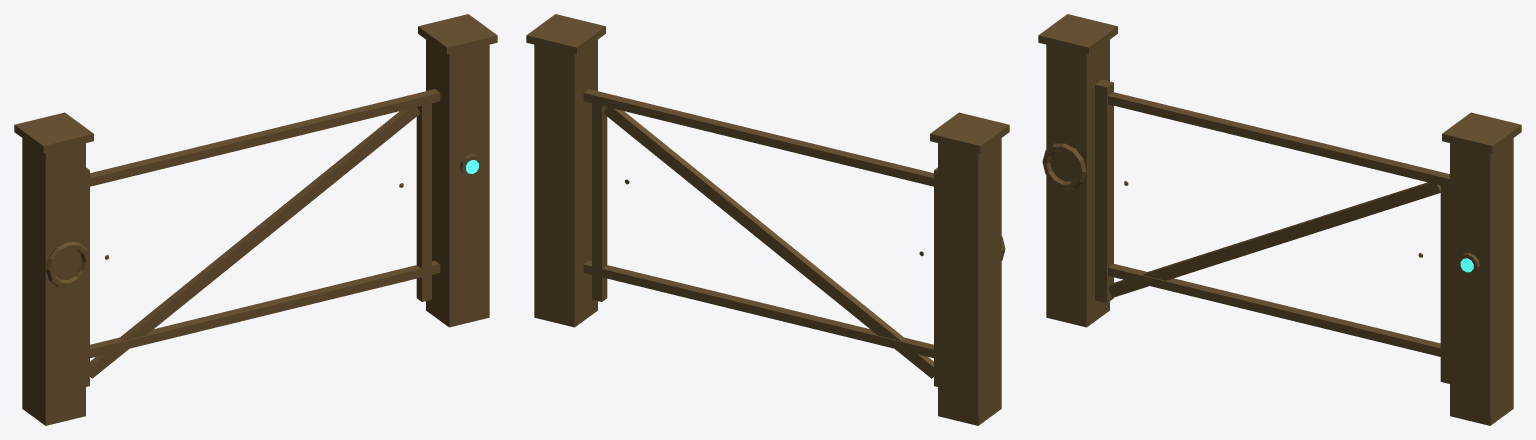
The model's file is SM_Fence_DvergrBrass_08_Gate.glb.
3 renders of one model, left to right at view 1: azimuth 30°, elevation 25°; view 2: azimuth 150°, elevation 25°; view 3: azimuth 330°, elevation 25°, orthographic.
Parts seen in each view (by area): view 1: SM_Fence_DvergrBrass_08_Gate_PostHinge, SM_Fence_DvergrBrass_08_Gate_PostLatch, SM_Fence_DvergrBrass_08_Gate_LeafBrace, SM_Fence_DvergrBrass_08_Gate_LeafRailTop, SM_Fence_DvergrBrass_08_Gate_LeafRailBot, SM_Fence_DvergrBrass_08_Gate_LeafStileFar, SM_Fence_DvergrBrass_08_Gate_PostHinge_Cap, SM_Fence_DvergrBrass_08_Gate_PostLatch_Cap, SM_Fence_DvergrBrass_08_Gate_Gear, SM_Fence_DvergrBrass_08_Gate_Leaf; view 2: SM_Fence_DvergrBrass_08_Gate_PostHinge, SM_Fence_DvergrBrass_08_Gate_PostLatch, SM_Fence_DvergrBrass_08_Gate_LeafBrace, SM_Fence_DvergrBrass_08_Gate_LeafRailTop, SM_Fence_DvergrBrass_08_Gate_LeafRailBot, SM_Fence_DvergrBrass_08_Gate_LeafStileFar, SM_Fence_DvergrBrass_08_Gate_PostHinge_Cap, SM_Fence_DvergrBrass_08_Gate_PostLatch_Cap, SM_Fence_DvergrBrass_08_Gate_Leaf; view 3: SM_Fence_DvergrBrass_08_Gate_PostLatch, SM_Fence_DvergrBrass_08_Gate_PostHinge, SM_Fence_DvergrBrass_08_Gate_LeafRailTop, SM_Fence_DvergrBrass_08_Gate_LeafBrace, SM_Fence_DvergrBrass_08_Gate_LeafRailBot, SM_Fence_DvergrBrass_08_Gate_Leaf, SM_Fence_DvergrBrass_08_Gate_PostLatch_Cap, SM_Fence_DvergrBrass_08_Gate_PostHinge_Cap, SM_Fence_DvergrBrass_08_Gate_LeafStileFar, SM_Fence_DvergrBrass_08_Gate_Gear.
Part boxes in pixels (left/top/right/bottom): SM_Fence_DvergrBrass_08_Gate_PostHinge: left=22, top=138, right=85, bottom=425; SM_Fence_DvergrBrass_08_Gate_PostLatch: left=426, top=40, right=489, bottom=327; SM_Fence_DvergrBrass_08_Gate_LeafBrace: left=90, top=107, right=420, bottom=378; SM_Fence_DvergrBrass_08_Gate_LeafRailTop: left=90, top=89, right=440, bottom=186; SM_Fence_DvergrBrass_08_Gate_LeafRailBot: left=90, top=260, right=440, bottom=358; SM_Fence_DvergrBrass_08_Gate_LeafStileFar: left=416, top=102, right=431, bottom=301; SM_Fence_DvergrBrass_08_Gate_PostHinge_Cap: left=14, top=112, right=93, bottom=153; SM_Fence_DvergrBrass_08_Gate_PostLatch_Cap: left=418, top=14, right=497, bottom=54; SM_Fence_DvergrBrass_08_Gate_Gear: left=46, top=242, right=89, bottom=287; SM_Fence_DvergrBrass_08_Gate_Leaf: left=86, top=167, right=89, bottom=386; SM_Fence_DvergrBrass_08_Gate_PostHinge: left=938, top=138, right=1001, bottom=425; SM_Fence_DvergrBrass_08_Gate_PostLatch: left=534, top=40, right=597, bottom=327; SM_Fence_DvergrBrass_08_Gate_LeafBrace: left=603, top=107, right=933, bottom=378; SM_Fence_DvergrBrass_08_Gate_LeafRailTop: left=583, top=89, right=933, bottom=186; SM_Fence_DvergrBrass_08_Gate_LeafRailBot: left=583, top=260, right=933, bottom=358; SM_Fence_DvergrBrass_08_Gate_LeafStileFar: left=592, top=102, right=607, bottom=301; SM_Fence_DvergrBrass_08_Gate_PostHinge_Cap: left=930, top=112, right=1009, bottom=153; SM_Fence_DvergrBrass_08_Gate_PostLatch_Cap: left=526, top=14, right=605, bottom=54; SM_Fence_DvergrBrass_08_Gate_Leaf: left=934, top=167, right=937, bottom=386; SM_Fence_DvergrBrass_08_Gate_PostLatch: left=1450, top=138, right=1513, bottom=425; SM_Fence_DvergrBrass_08_Gate_PostHinge: left=1046, top=40, right=1109, bottom=327; SM_Fence_DvergrBrass_08_Gate_LeafRailTop: left=1108, top=92, right=1449, bottom=187; SM_Fence_DvergrBrass_08_Gate_LeafBrace: left=1108, top=182, right=1440, bottom=297; SM_Fence_DvergrBrass_08_Gate_LeafRailBot: left=1108, top=263, right=1449, bottom=359; SM_Fence_DvergrBrass_08_Gate_Leaf: left=1095, top=79, right=1113, bottom=303; SM_Fence_DvergrBrass_08_Gate_PostLatch_Cap: left=1442, top=112, right=1521, bottom=153; SM_Fence_DvergrBrass_08_Gate_PostHinge_Cap: left=1038, top=14, right=1117, bottom=54; SM_Fence_DvergrBrass_08_Gate_LeafStileFar: left=1440, top=185, right=1449, bottom=383; SM_Fence_DvergrBrass_08_Gate_Gear: left=1042, top=143, right=1086, bottom=188.
Bounding box in the file's own units: 2.25 × 1.34 × 0.2586.
